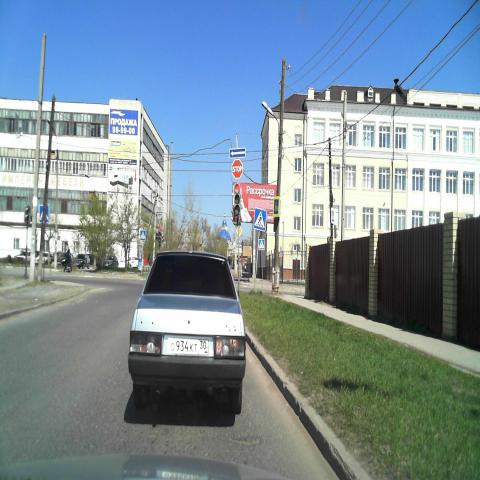5_7_2: (229, 147, 246, 159)
